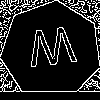W: (26, 26, 79, 78)
